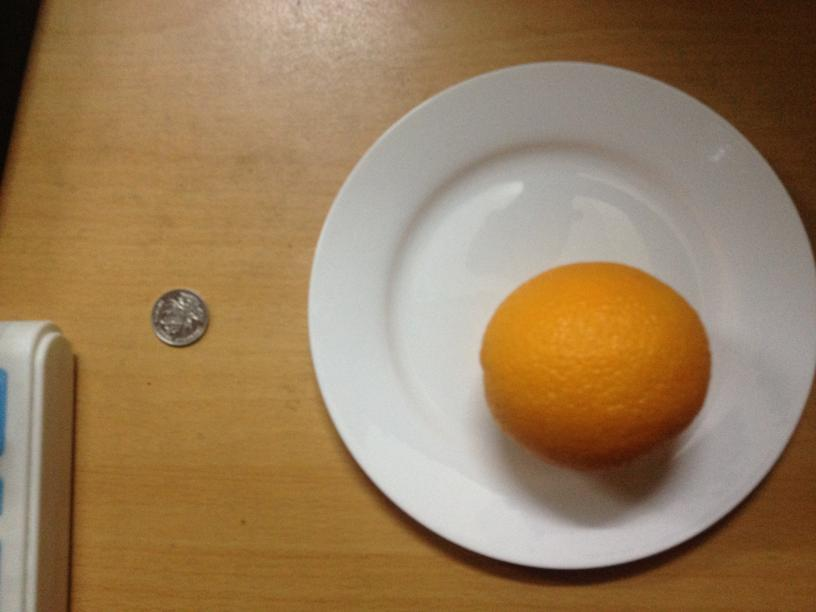coin: (148, 289, 208, 346)
orange: (477, 261, 713, 465)
